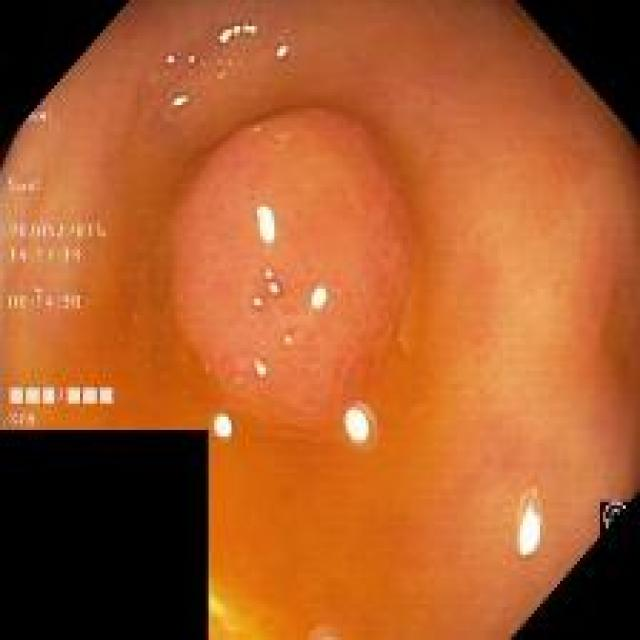Polyps: (172, 111, 409, 433)
